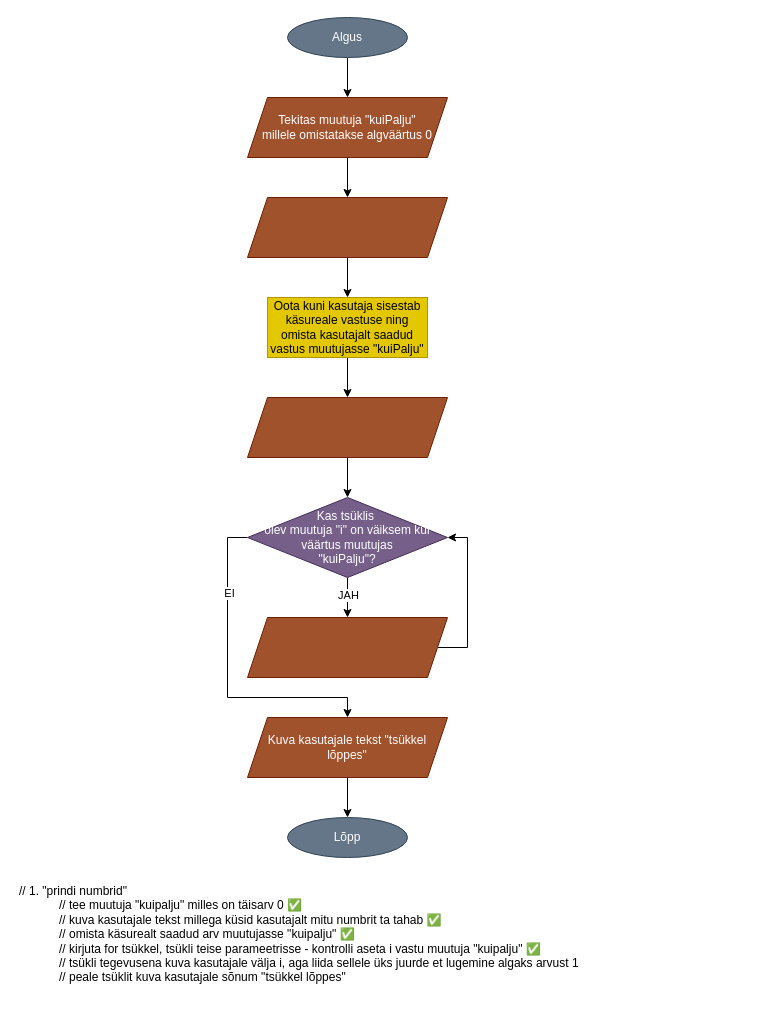
This 774x1035 diagram has some shape labels left out. The shapes that lost their labels are listed below. From the top down, each one's box as (x1, y1, x2, y2) in pixels, then its label:
(246, 196, 448, 258): Kuva kasutajale tekst "Kui mitu numbrit te tahate?"
(246, 396, 448, 458): Seadista for tsükkel millel on tsükli töö jaoks muutuja "i"
(246, 616, 448, 678): Kuva kasutajale välja muutuja "i" väärtus, kujul millele liidad ühe juurde: i+1
